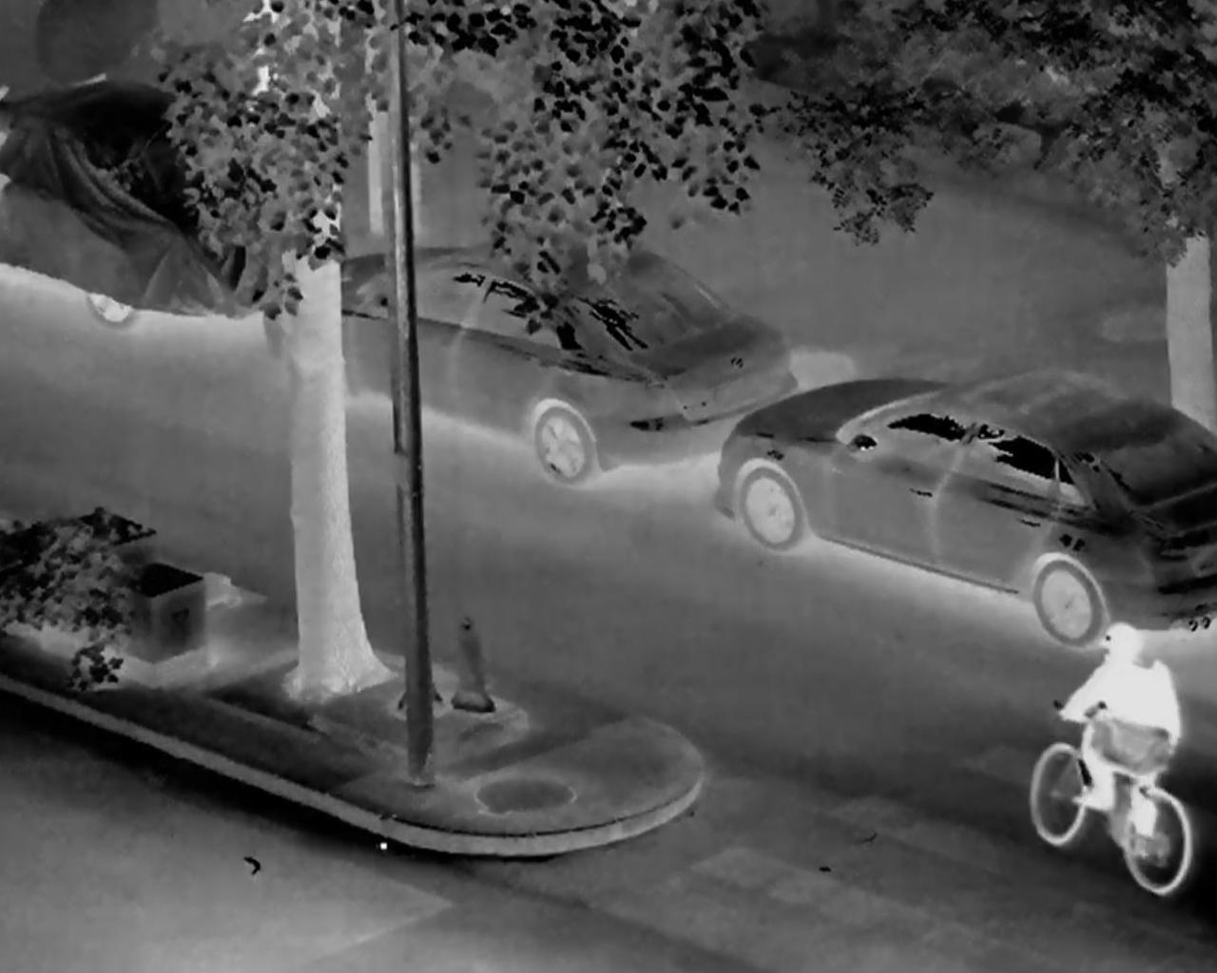person: (1064, 604, 1186, 882)
